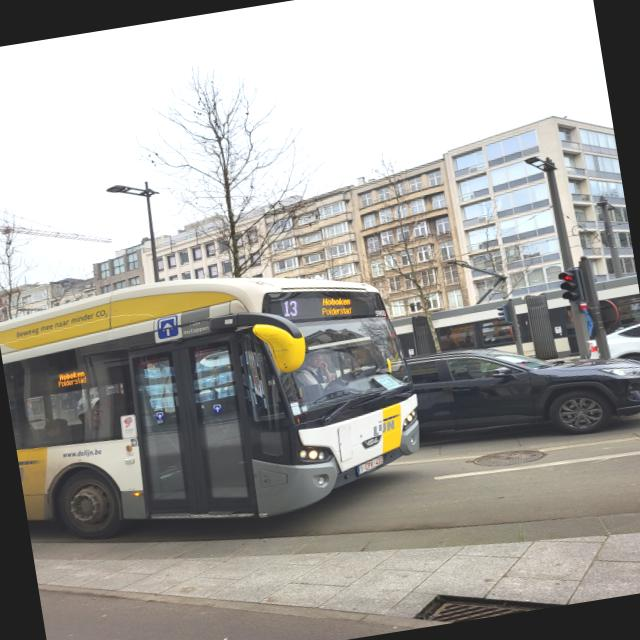bus-number: (282, 298, 300, 319)
